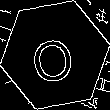O_N: (30, 26, 80, 84)
